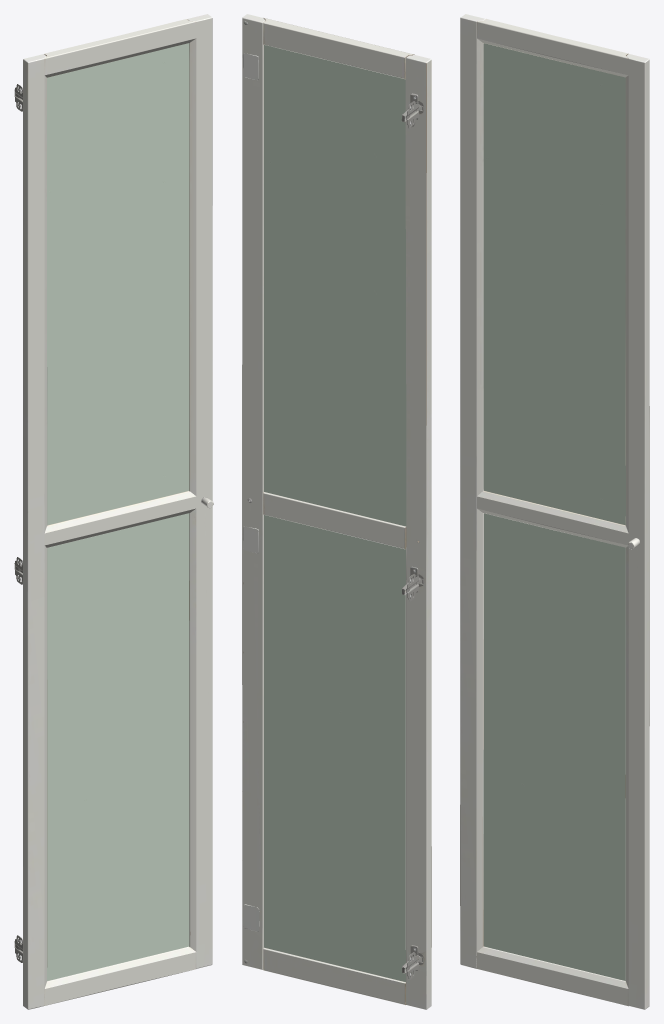
Rendered from oxberg-glass-door-90275617-original.glb.
3 renders of one model, left to right at view 1: azimuth 30°, elevation 25°; view 2: azimuth 150°, elevation 25°; view 3: azimuth 330°, elevation 25°, orthographic.
Visible parts, largest first — view 1: 2, 1; view 2: 2, 1; view 3: 2, 1.
Boxes of the visible parts, x1,y1,x2,y2 form: 2: [47, 43, 189, 980]; 1: [14, 14, 213, 1009]; 2: [264, 45, 406, 981]; 1: [242, 14, 431, 1009]; 2: [483, 43, 625, 980]; 1: [460, 14, 649, 1009].
Size of the model in its own units: 0.3928 by 1.92 by 0.0968.
2 materials, 2 textured.
